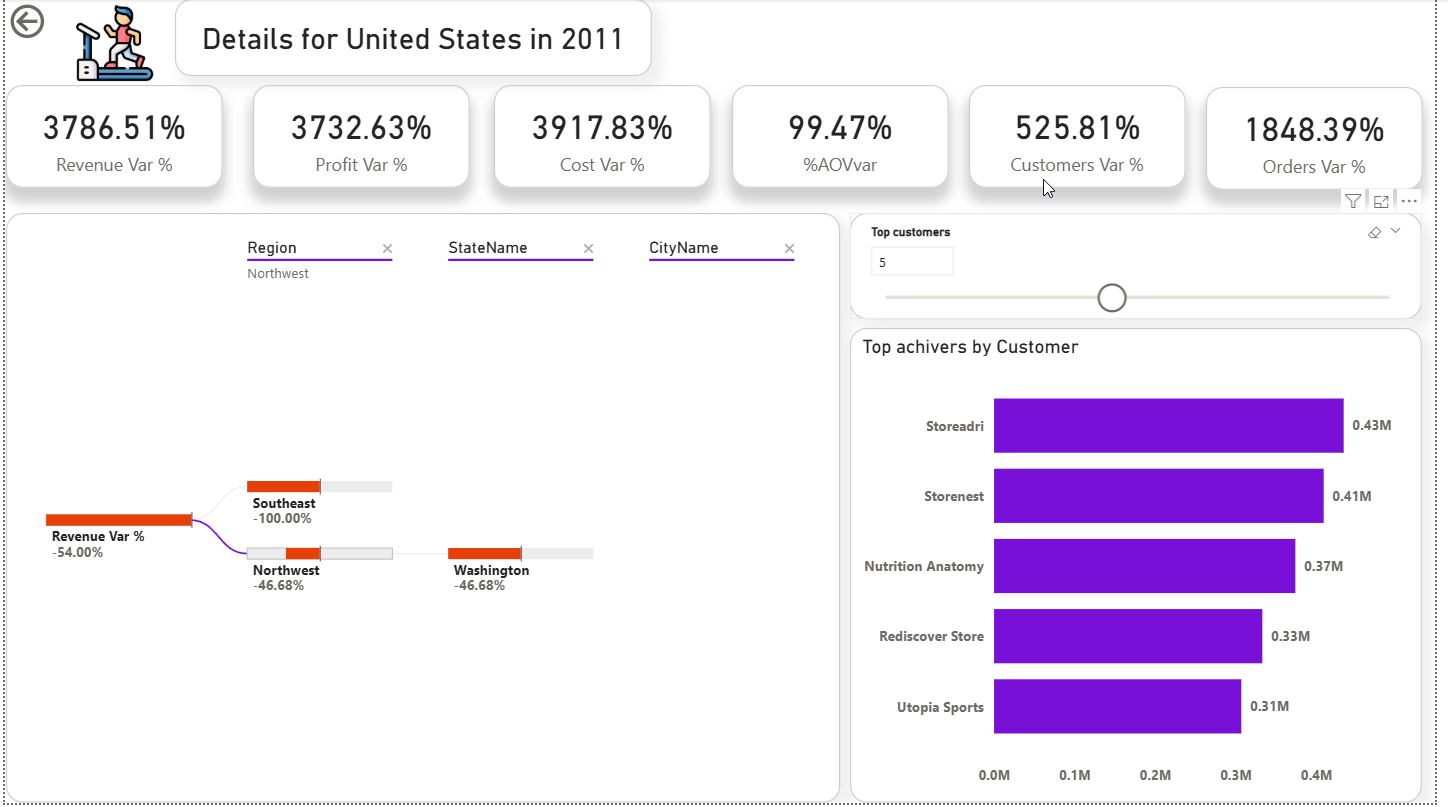

What the dashboard file says about the page in this screenshot:
{"tool":"powerbi","page":{"name":"Location Analysis","canvas":[1280,720],"ordinal":5},"visuals":[{"type":"card","title":"Returns Amount","fields":{"Values":["Revenue.31 Revenue Var %"]},"box":[1.2,77.3,194,92],"z":0},{"type":"card","title":"Returns QTY","fields":{"Values":["Revenue.35 Profit Var %"]},"box":[222.1,77.3,194,92],"z":1000},{"type":"card","title":"Returned Orders","fields":{"Values":["Revenue.32 Cost Var %"]},"box":[437.9,77.3,194,92],"z":2000},{"type":"card","title":"Returned Customers","fields":{"Values":["Revenue.%AOVvar"]},"box":[651,77.3,193.6,91.8],"z":3000},{"type":"card","title":"Returned Customers","fields":{"Values":["Revenue.40 Customers Var %"]},"box":[863.4,77.3,193.6,91.8],"z":4000},{"type":"card","title":"Returned Customers","fields":{"Values":["Revenue.34 Orders Var %"]},"box":[1075.5,79.1,193.6,91.8],"z":5000},{"type":"decompositionTreeVisual","fields":{"Analyze":["Revenue.31 Revenue Var %"],"ExplainBy":["Customers.Region","Customers.StateName","Customers.CityName"]},"box":[1,192,747,528],"z":6000},{"type":"actionButton","box":[0,0,100,40],"z":7000},{"type":"slicer","fields":{"Values":["Top customers.Top customers"]},"box":[757,192,512,95],"z":8000},{"type":"clusteredBarChart","fields":{"Y":["Revenue.Top achivers"],"Category":["Customers.Customer"]},"box":[757,295,512,425],"z":9000},{"type":"image","box":[37,0,122,79],"z":10000},{"type":"card","fields":{"Values":["Revenue.Location Title"]},"box":[152,0,427,69],"z":11000}]}

Visuals, with their boxes in screenshot pixels (x1, y1, x2, y2), scaled from the page's 1280x720 canvas onto the 1448x807 screenshot:
"Returns Amount" card: [1, 87, 221, 190]
"Returns QTY" card: [251, 87, 471, 190]
"Returned Orders" card: [495, 87, 715, 190]
"Returned Customers" card: [736, 87, 955, 190]
"Returned Customers" card: [977, 87, 1196, 190]
"Returned Customers" card: [1217, 89, 1436, 192]
decompositionTreeVisual - Revenue.31 Revenue Var % x Customers.Region: [1, 215, 846, 806]
actionButton: [0, 0, 113, 45]
slicer - Top customers.Top customers: [856, 215, 1436, 322]
clusteredBarChart - Revenue.Top achivers x Customers.Customer: [856, 331, 1436, 806]
image: [42, 0, 180, 89]
card - Revenue.Location Title: [172, 0, 655, 77]
